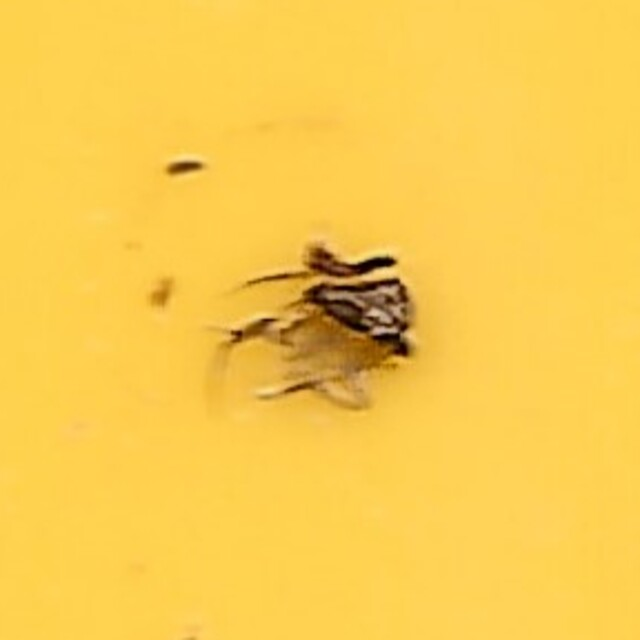Nematocera: (222, 236, 418, 404)
